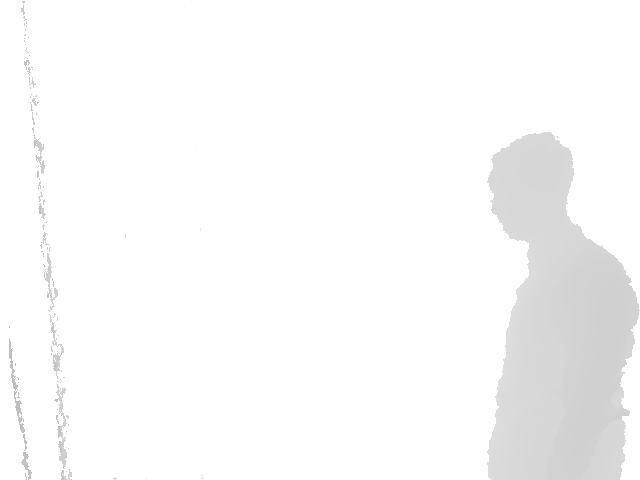head: (487, 132, 574, 242)
person: (485, 132, 640, 480)
